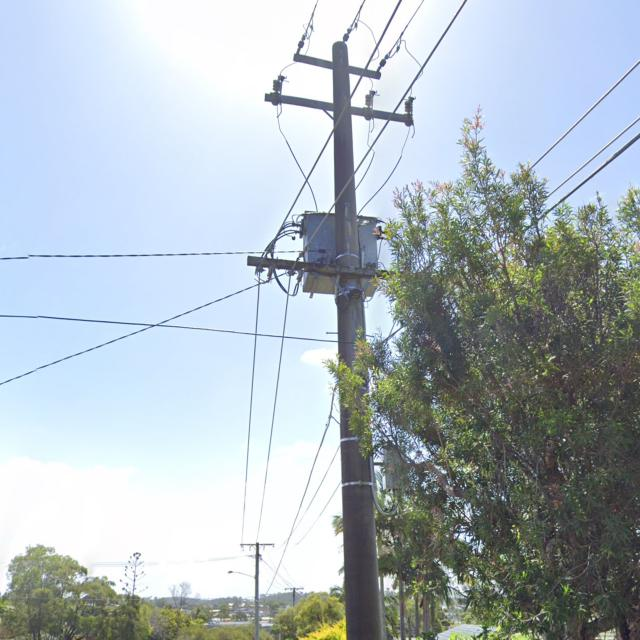HV-transmission: (264, 35, 417, 126)
concrete-pole: (331, 39, 387, 640)
crossarm: (264, 91, 410, 127), (246, 253, 392, 279), (291, 50, 383, 82), (240, 543, 270, 546)
streetlight: (228, 570, 255, 580)
timber-pole: (253, 542, 260, 640)
transformer: (301, 209, 383, 296)
